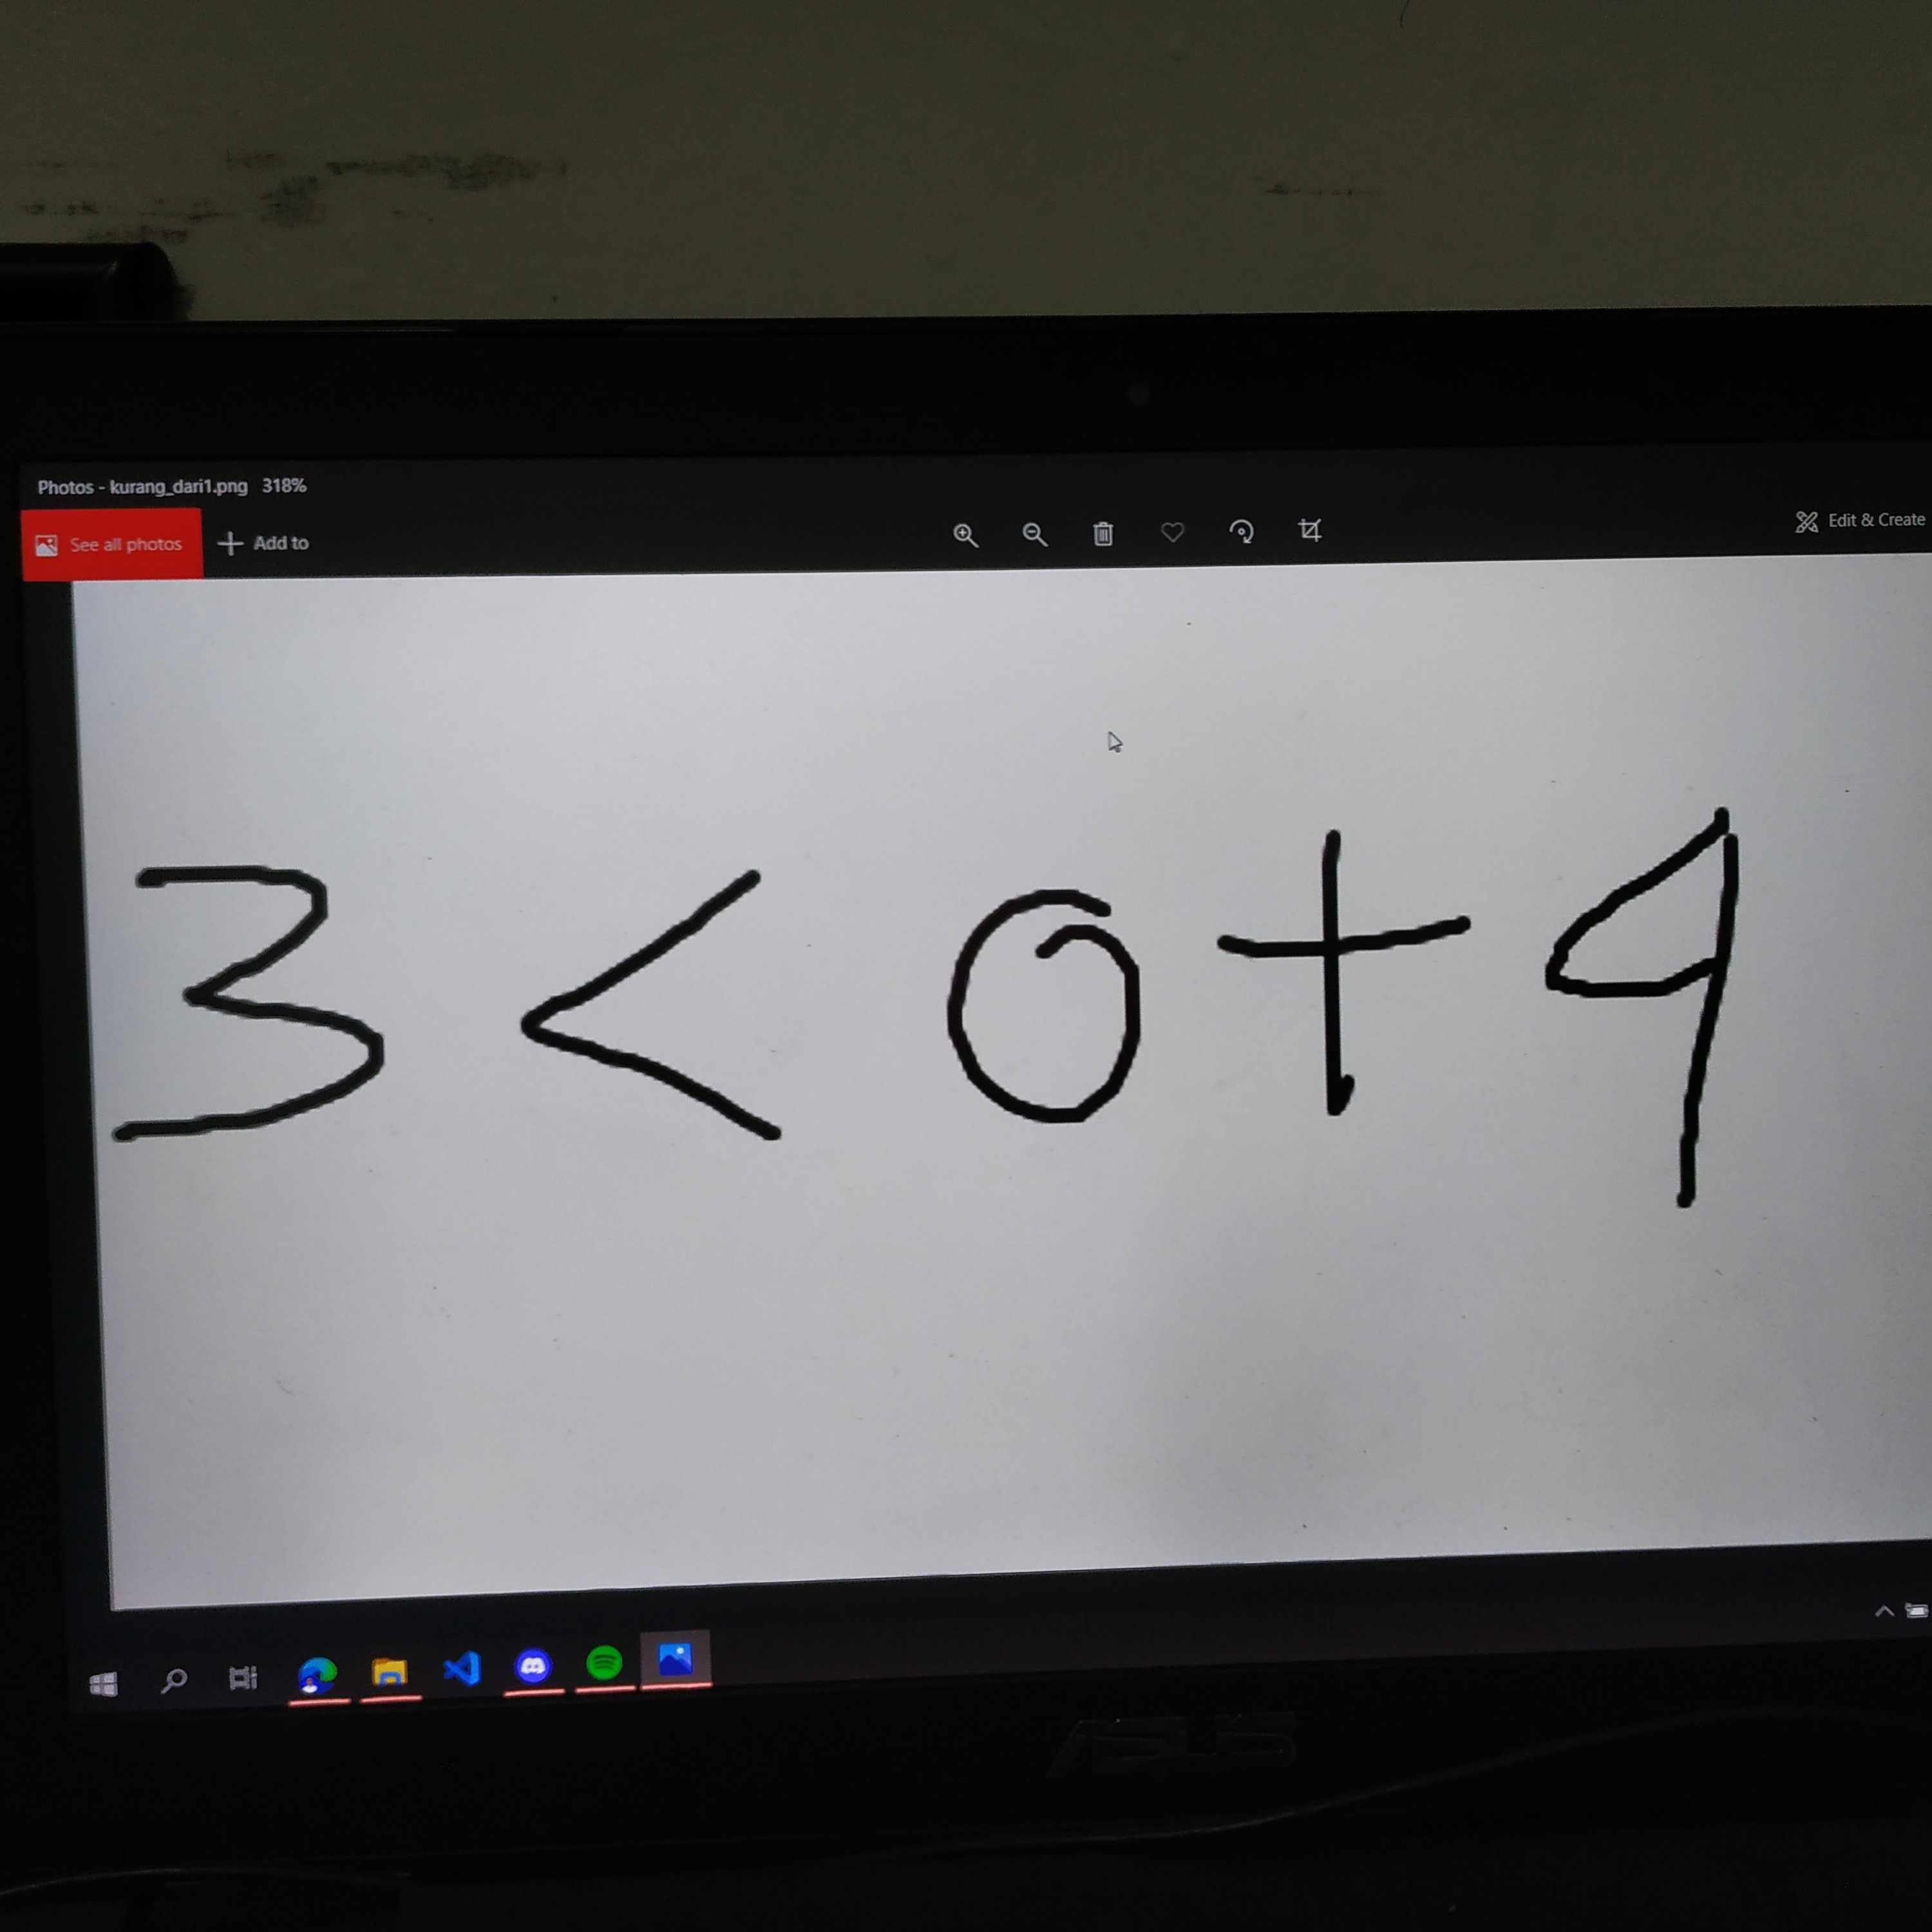lessthan: (512, 846, 811, 1162)
num0: (904, 862, 1185, 1143)
num3: (94, 850, 408, 1155)
num4: (1531, 795, 1749, 1225)
sum: (1203, 815, 1515, 1132)
